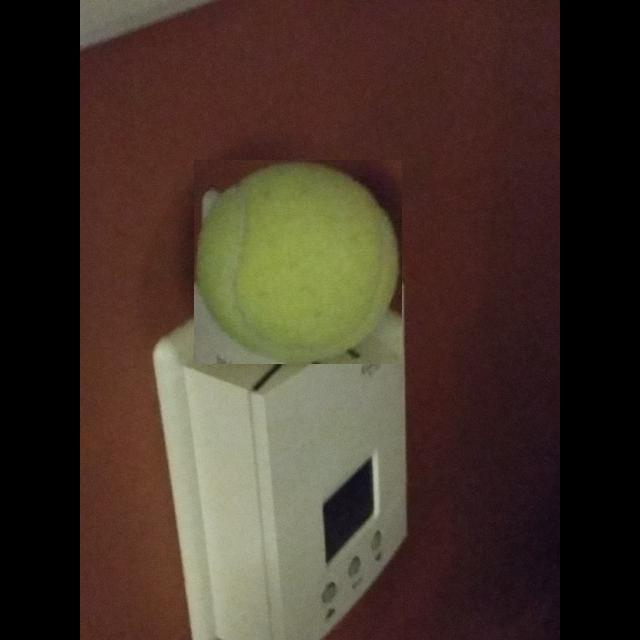tennis ball: (194, 160, 402, 364)
